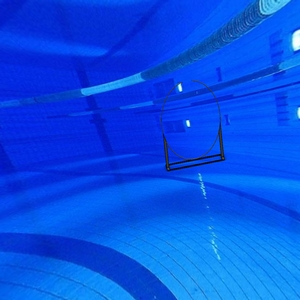circle: (159, 80, 231, 173)
